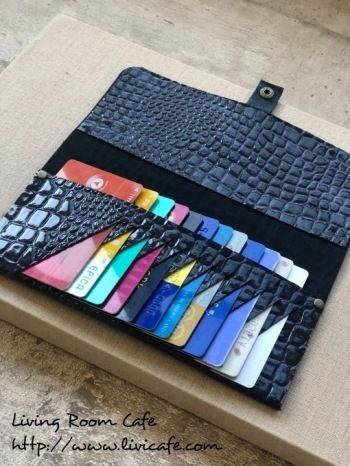cuero: (1, 67, 350, 411)
